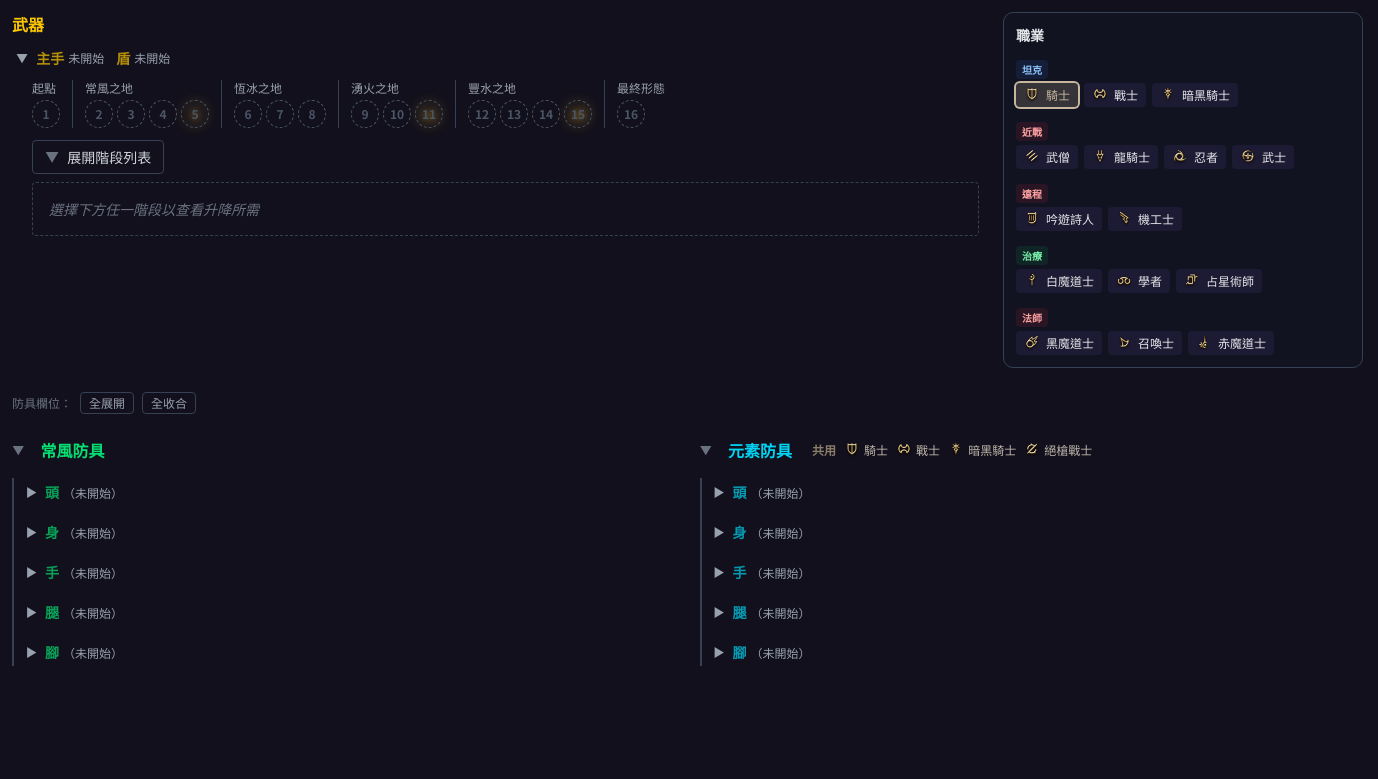
Test: DetailTab › armor track section collapse › 全展開 re-expands a manually-collapsed section header
Collapse the 常風防具 section manually
Click the button with aria-label "收合 常風防具".
click(73, 450)  # box [12, 438, 676, 462]
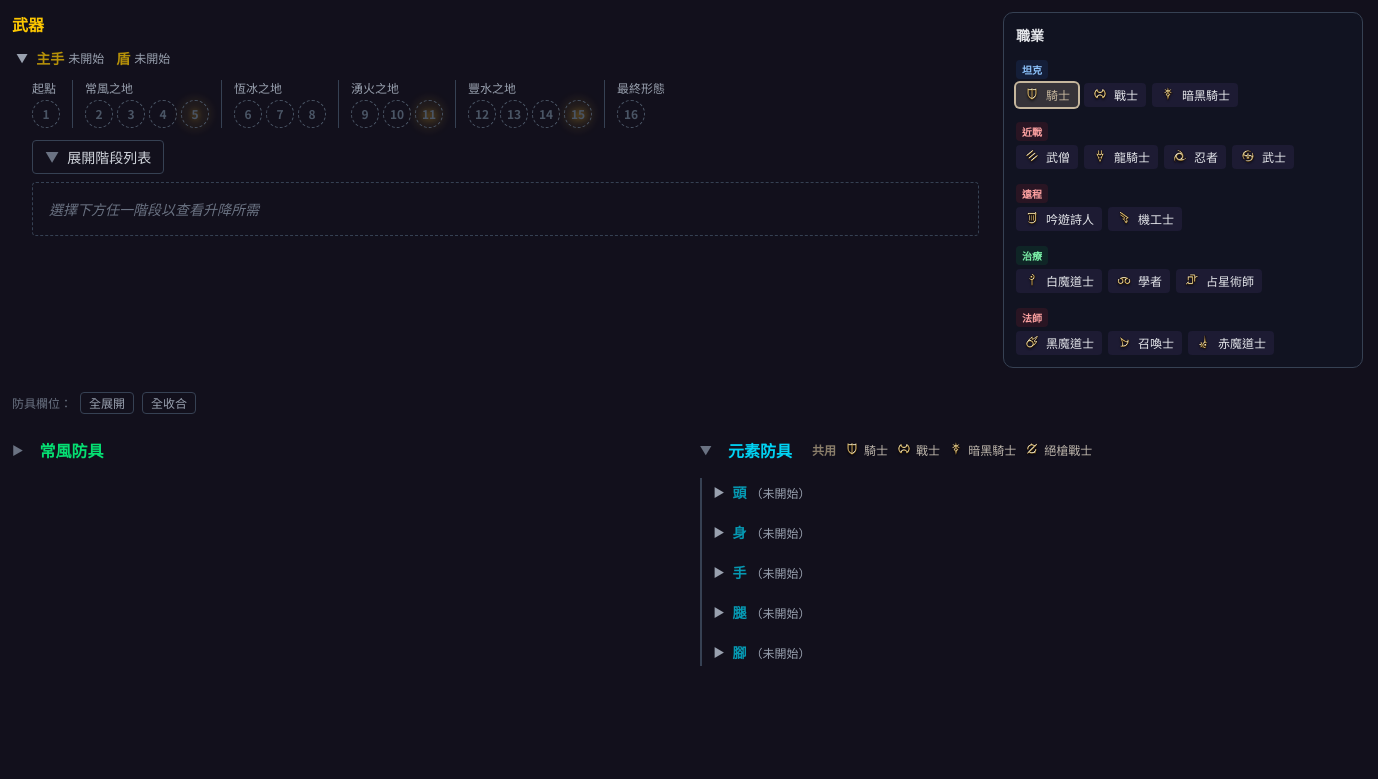
Result: the button named "收合 常風防具" is collapsed at [12, 438, 676, 462]
Click 全展開
Click the button with aria-label "展開所有防具欄位".
click(107, 403)  # box [80, 392, 134, 414]
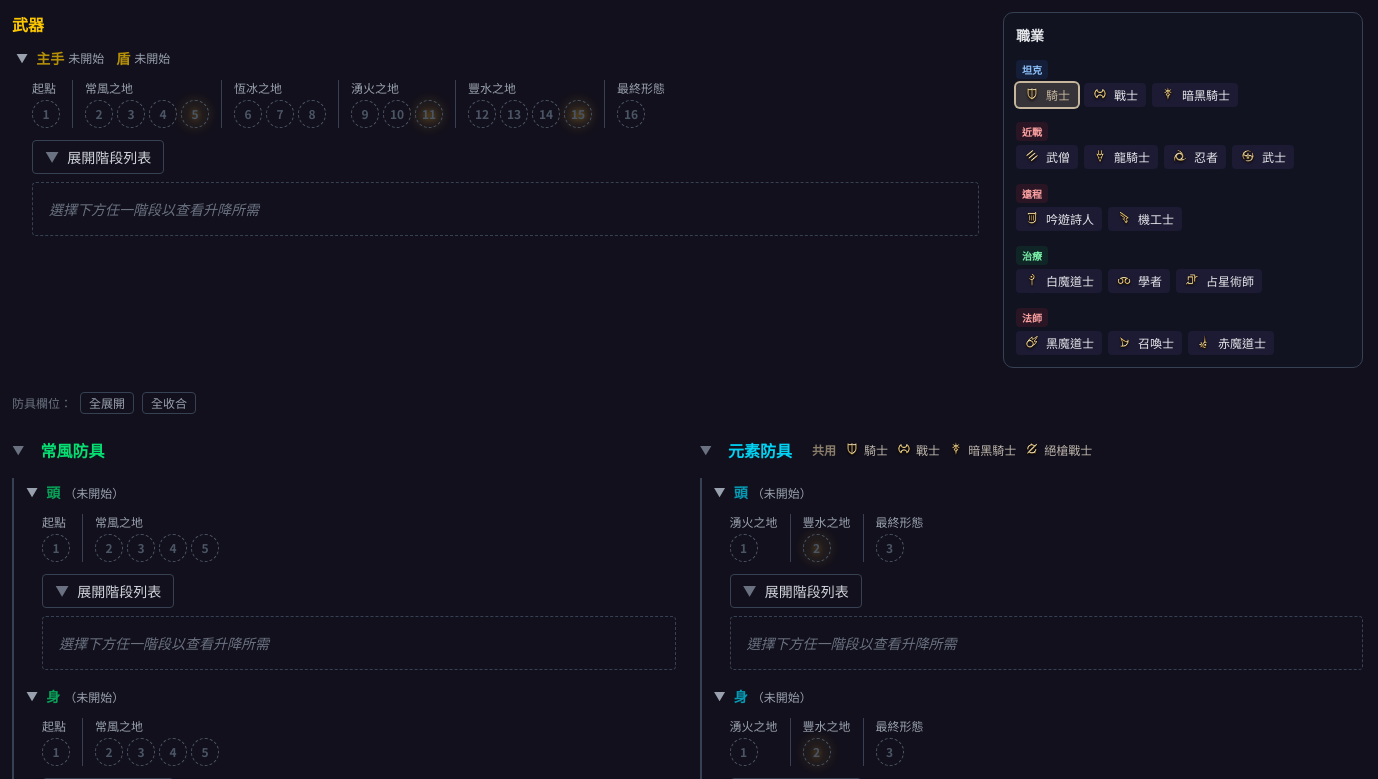
Result: the button with aria-label "收合 常風防具" is expanded at [12, 438, 676, 462]
